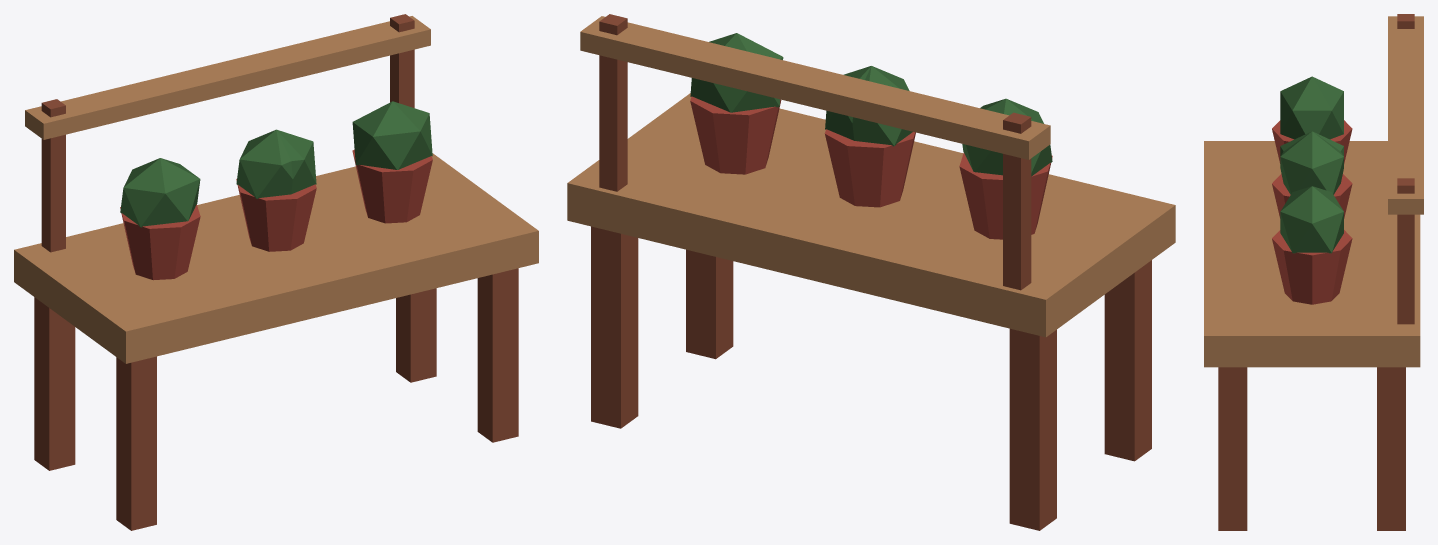
File: Backyard_PottingBenchTunnel_Standard.glb
3 renders of one model, left to right at view 1: azimuth 30°, elevation 25°; view 2: azimuth 150°, elevation 25°; view 3: azimuth 270°, elevation 25°, orthographic. The views are drawn at different scales.
Parts seen in each view (by area): view 1: Backyard_PottingBenchTunnel_Standard; view 2: Backyard_PottingBenchTunnel_Standard; view 3: Backyard_PottingBenchTunnel_Standard.
Boxes of the visible parts, x1,y1,x2,y2 form: Backyard_PottingBenchTunnel_Standard: (14, 14, 538, 530); Backyard_PottingBenchTunnel_Standard: (567, 14, 1175, 530); Backyard_PottingBenchTunnel_Standard: (1204, 14, 1423, 530).
Size of the model in its own units: 3.2 by 2.6 by 1.52.
